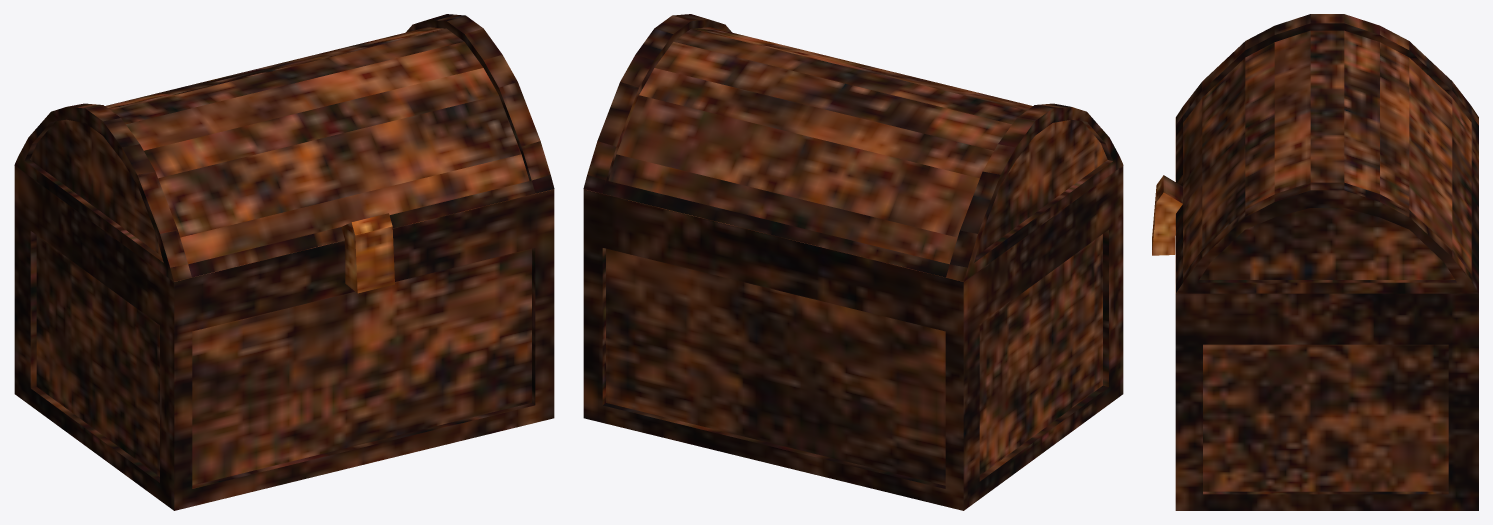
Rendered from Tier3Chest.glb.
3 views of the same model, side by side, from view 1: azimuth 30°, elevation 25°; view 2: azimuth 150°, elevation 25°; view 3: azimuth 270°, elevation 25° (orthographic). The views are drawn at different scales.
Visible parts, largest first — view 1: Tier3Chest; view 2: Tier3Chest; view 3: Tier3Chest.
Boxes of the visible parts, x1,y1,x2,y2 form: Tier3Chest: [14, 14, 554, 510]; Tier3Chest: [583, 14, 1123, 510]; Tier3Chest: [1152, 14, 1478, 510].
Size of the model in its own units: 0.686 by 0.5817 by 0.5375.
Materials: 3 (3 with a texture image).
